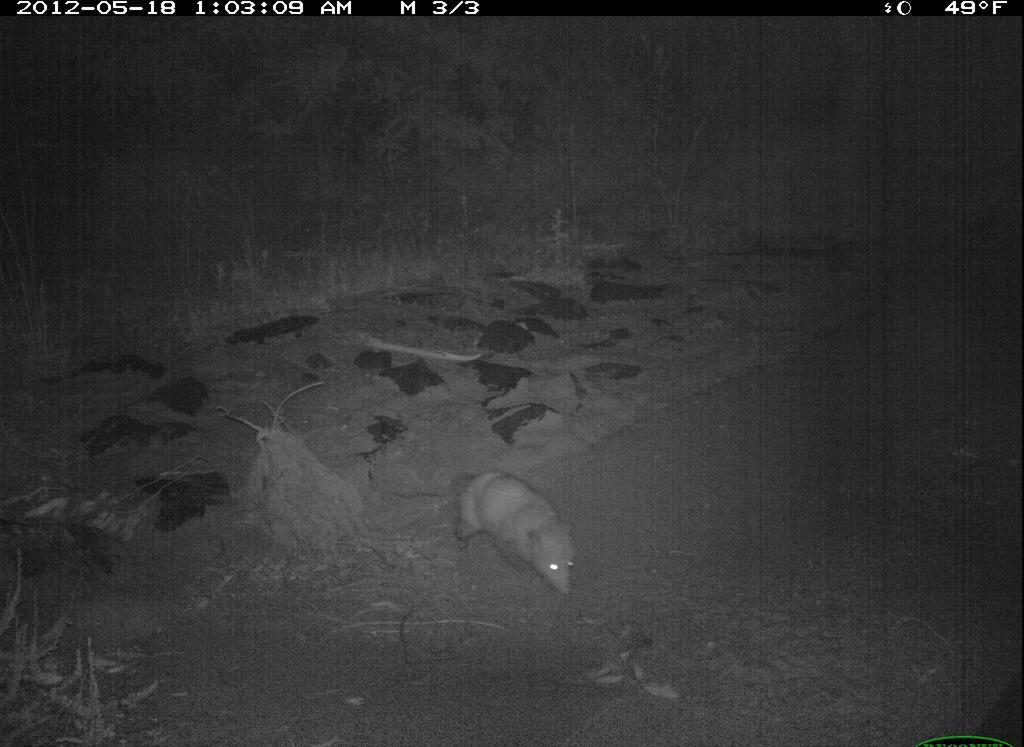opossum: (450, 463, 584, 603)
